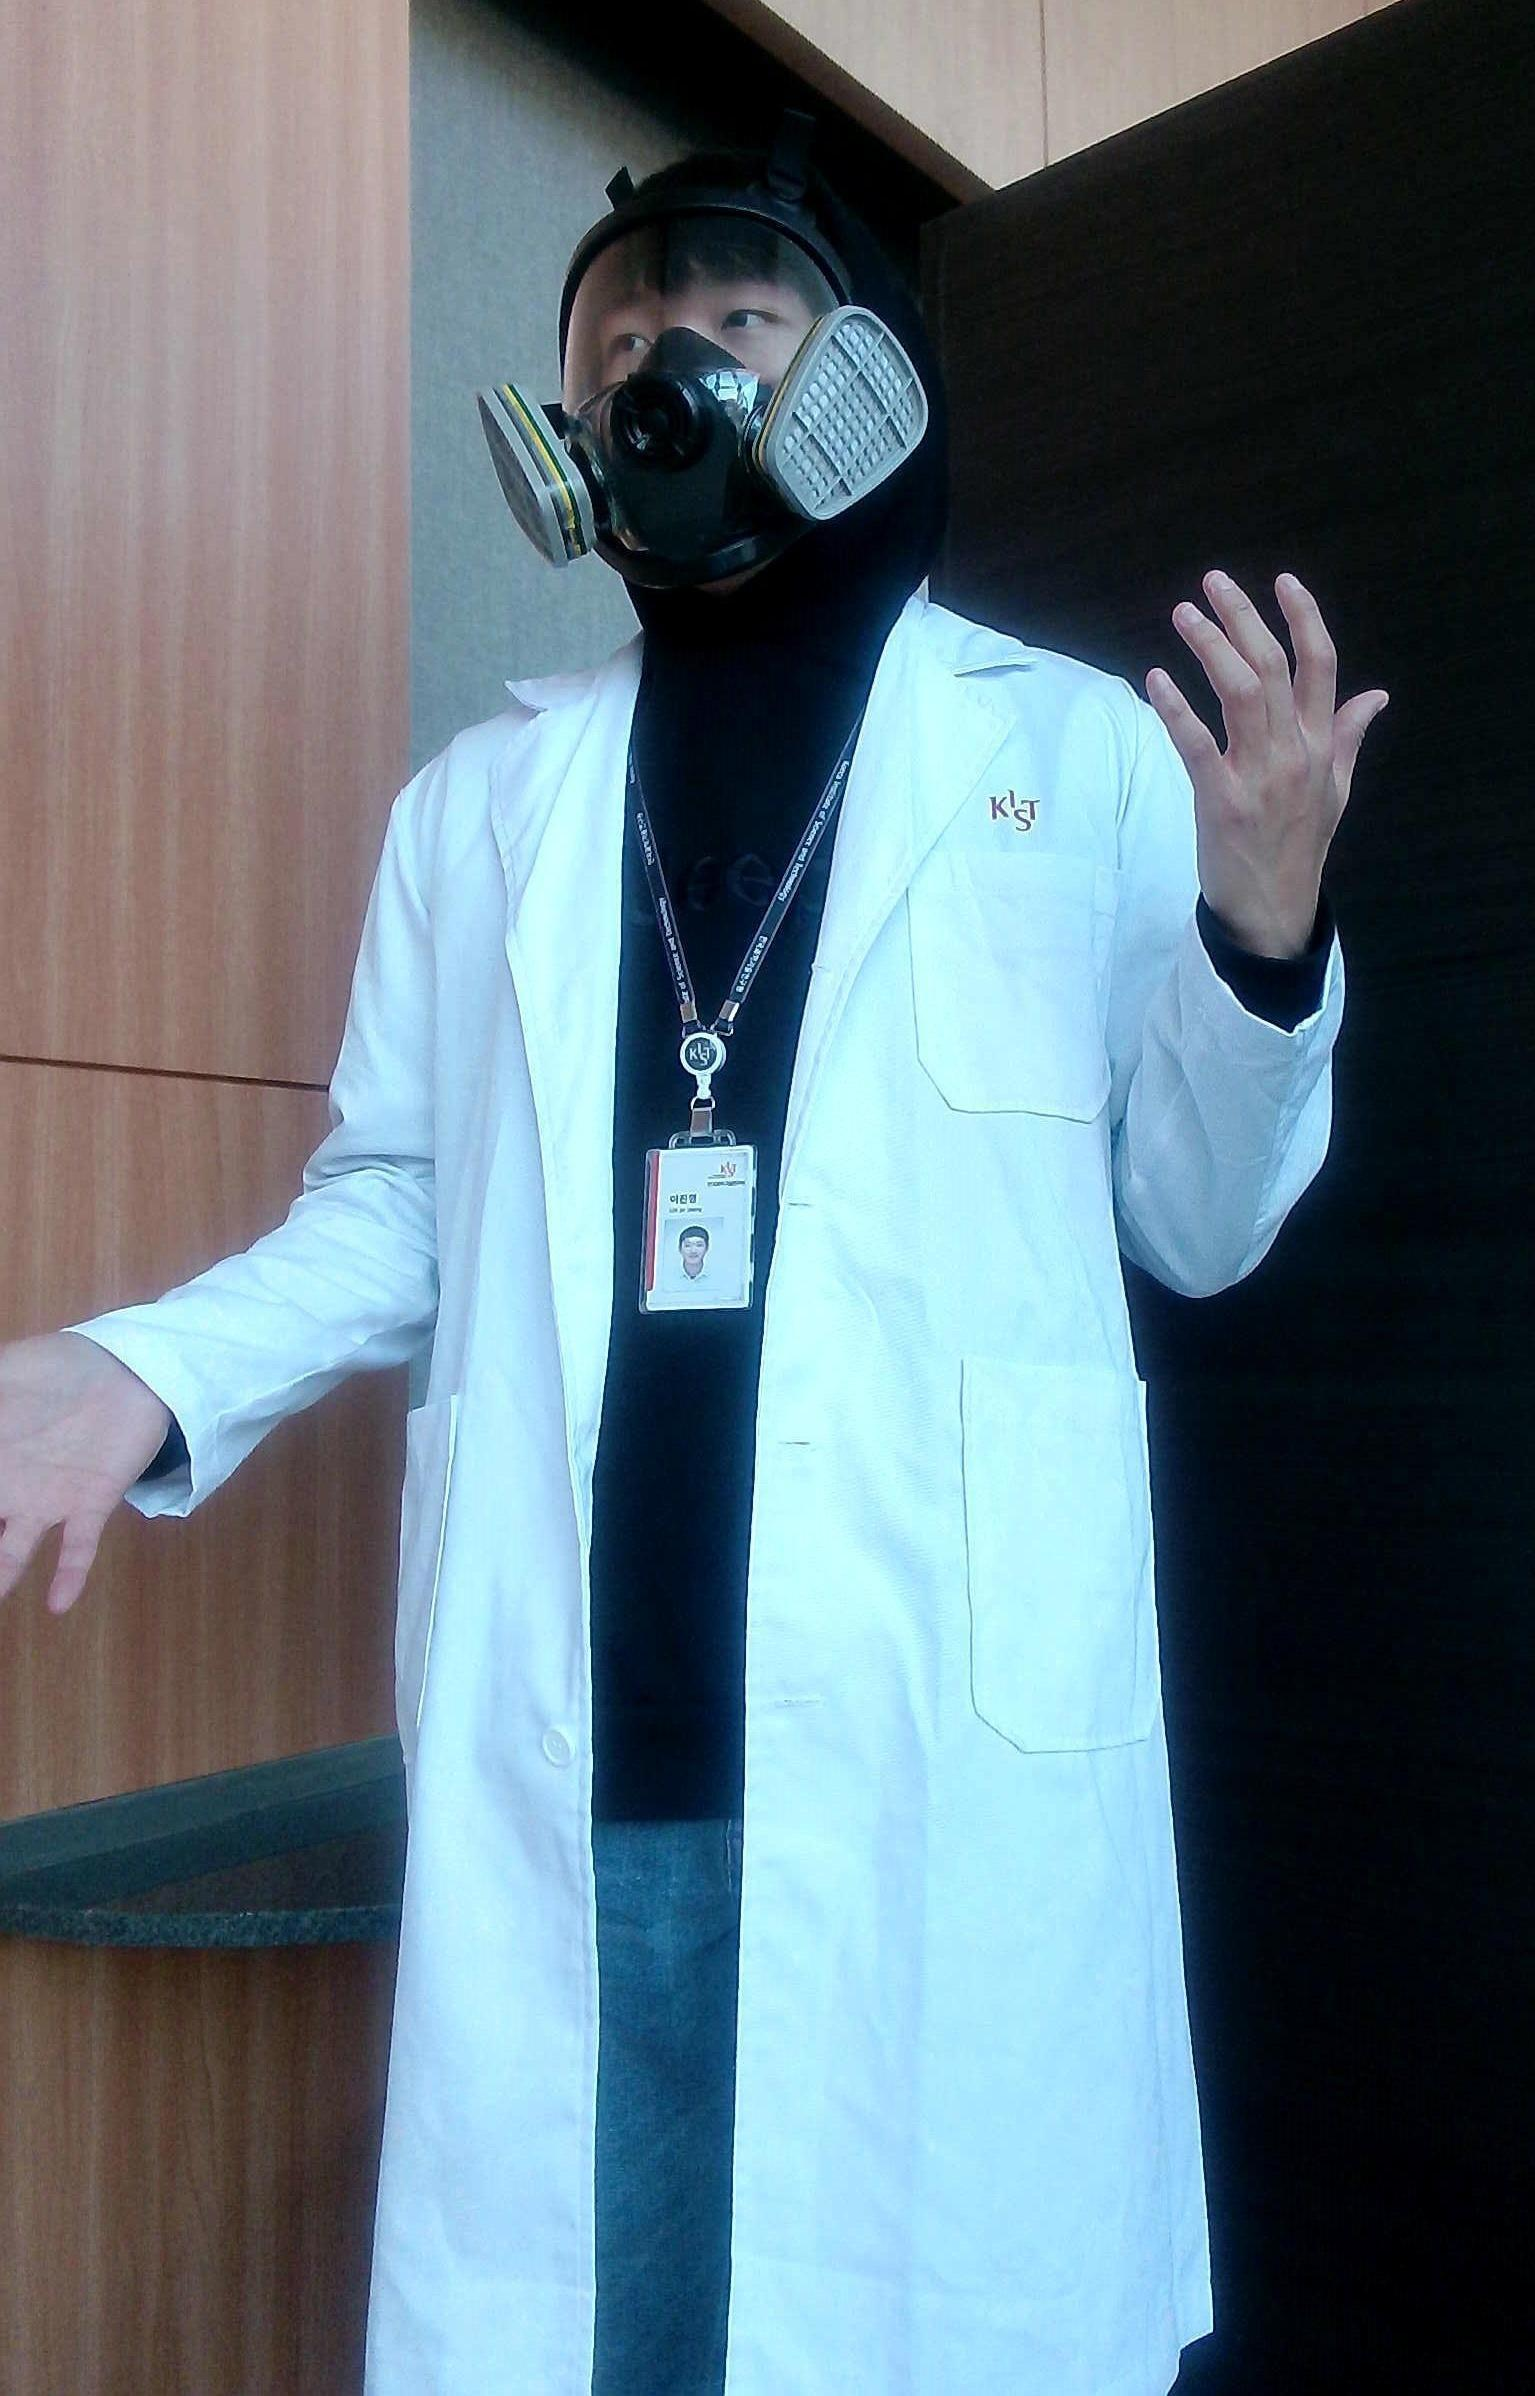lab_coat: (229, 702, 1219, 2396)
